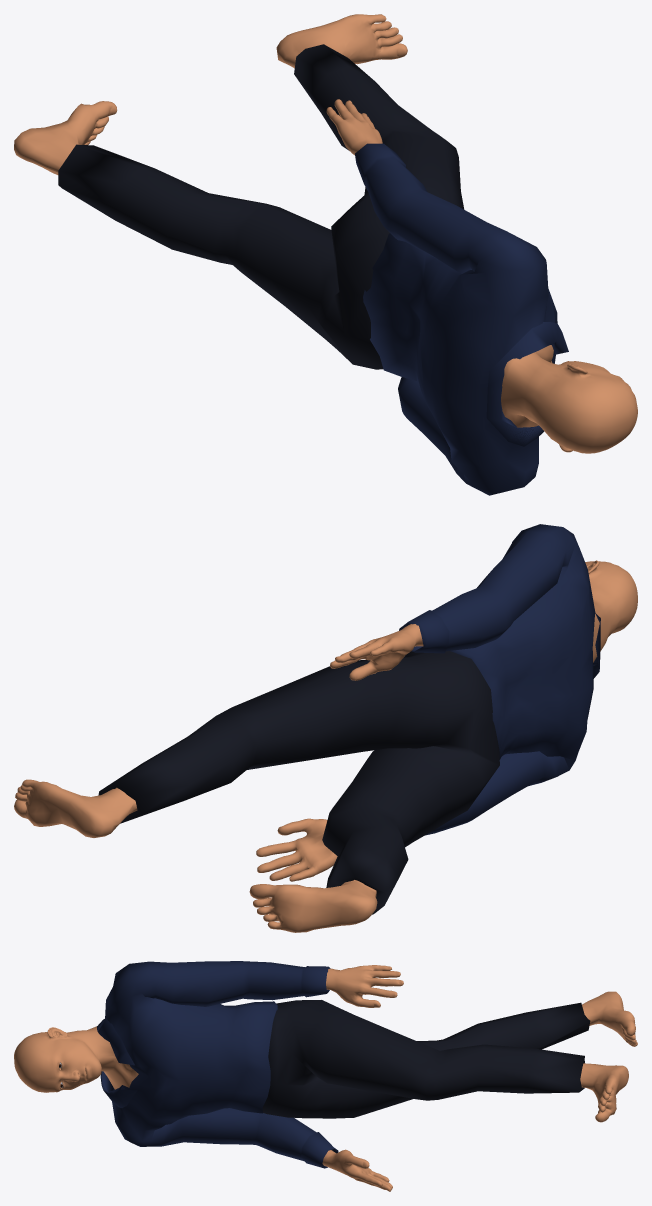
The model's file is walk.obj.
The picture shows the model from 3 angles, top to bottom: view 1: azimuth 30°, elevation 25°; view 2: azimuth 150°, elevation 25°; view 3: azimuth 270°, elevation 25°; orthographic projection. The views are drawn at different scales.
Size of the model in its own units: 0.8342 by 0.5546 by 1.67.
